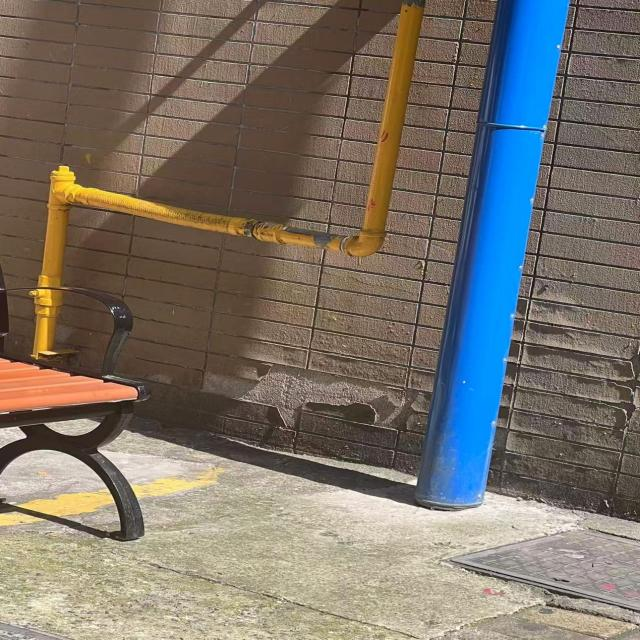spalling: (498, 259, 639, 457), (215, 342, 427, 444)
